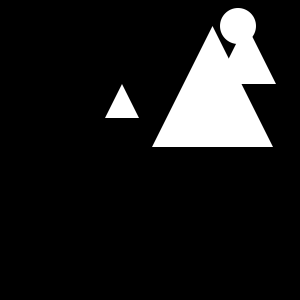rectangle: (220, 8, 256, 44)
triangle: (152, 26, 273, 147), (216, 24, 276, 84), (105, 84, 139, 118)
